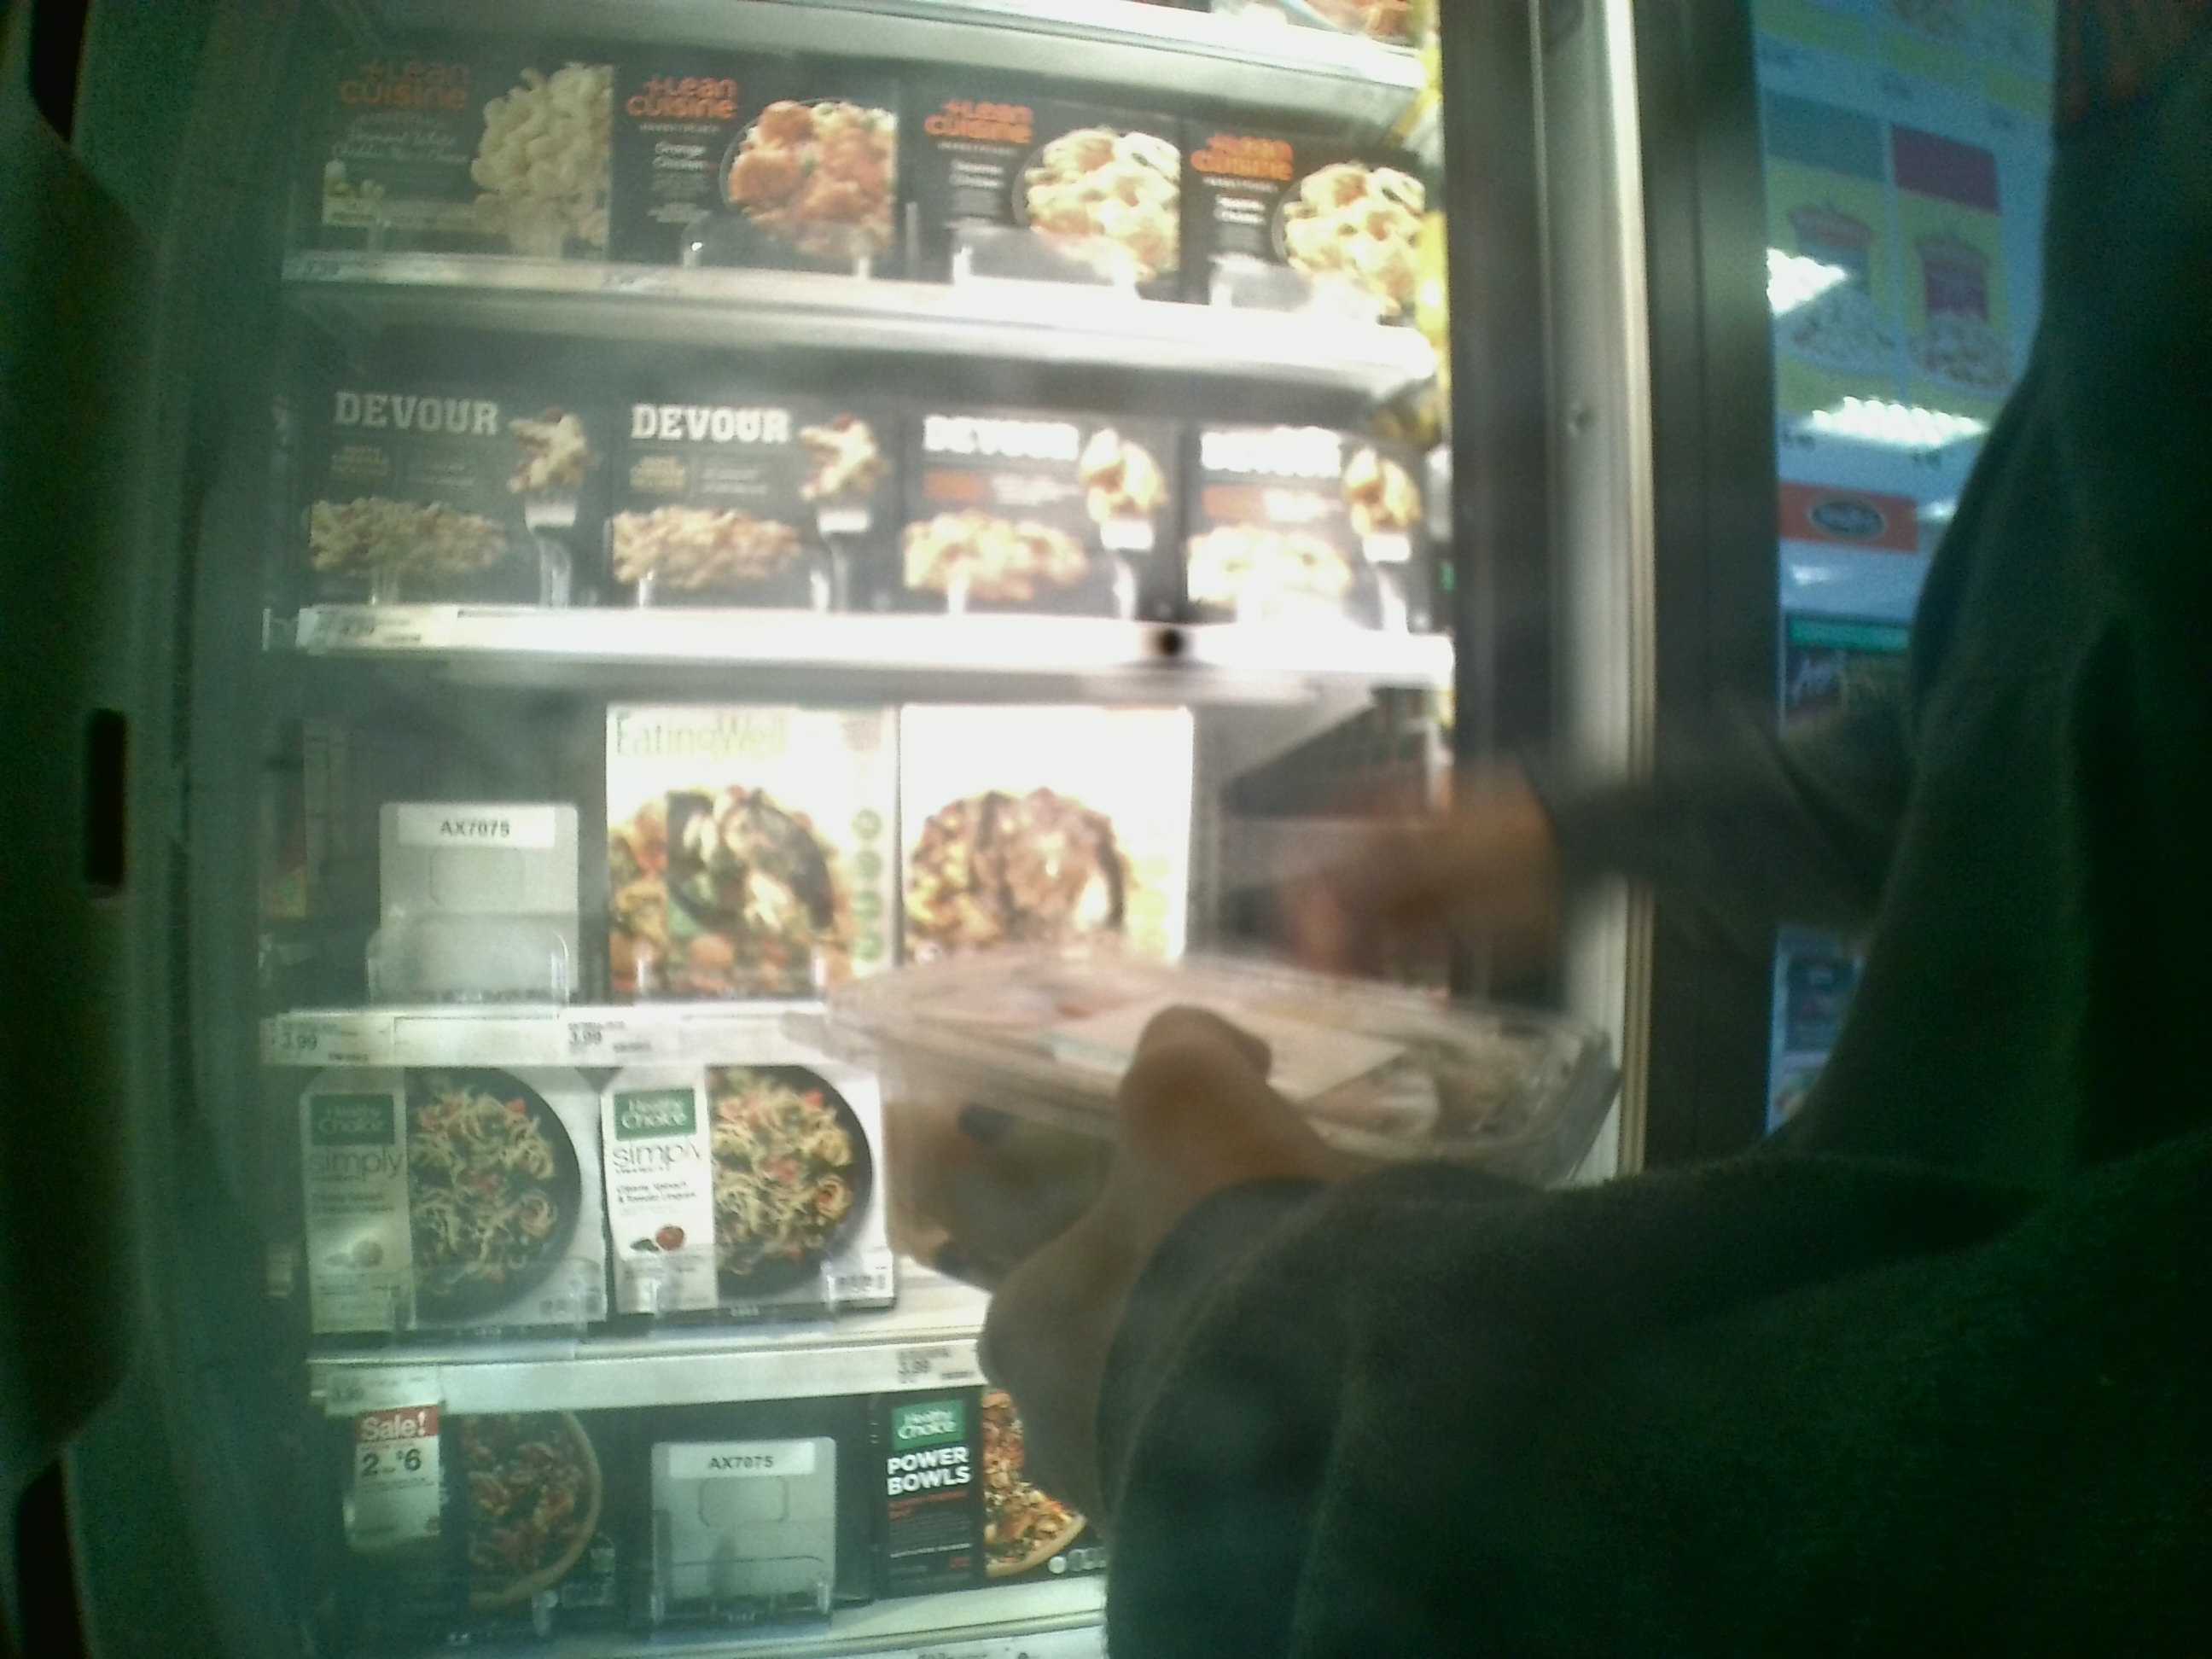pizza: (289, 1063, 599, 1337), (611, 706, 895, 985), (606, 1051, 904, 1312), (907, 706, 1188, 983), (611, 33, 907, 279), (902, 390, 1188, 624), (301, 373, 596, 598), (310, 37, 608, 256), (606, 382, 892, 601), (914, 84, 1184, 300), (341, 1410, 606, 1629), (1191, 406, 1432, 624), (1195, 122, 1416, 324)
